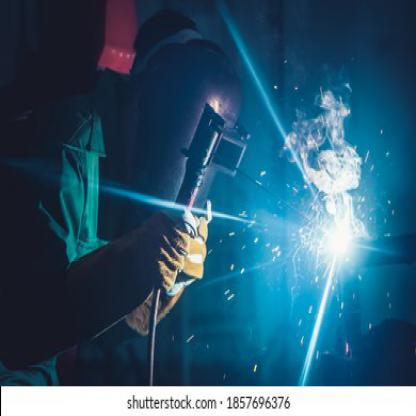glove: (62, 212, 189, 350), (128, 207, 211, 332)
